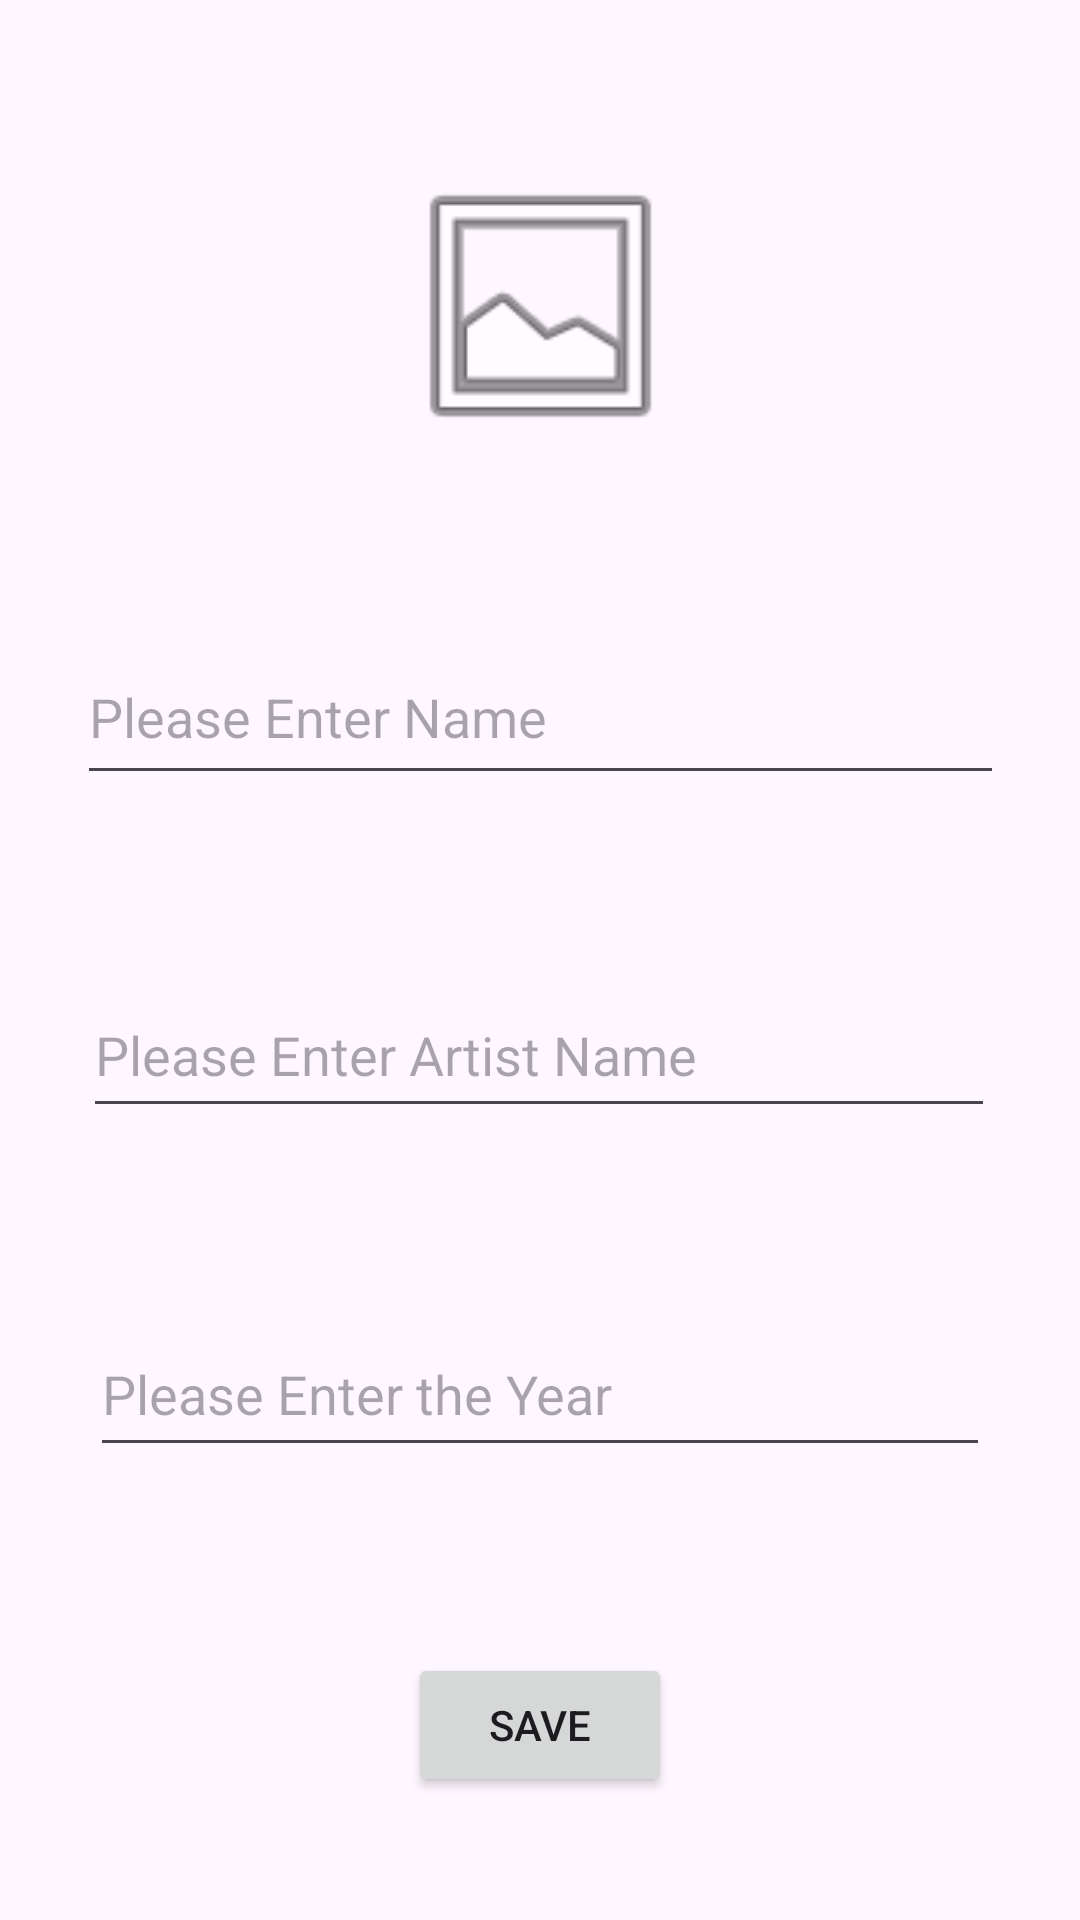

Where to tap for icons on this 1080w x 1920h app screen, as point (x, y):
gallery: point (540, 306)
